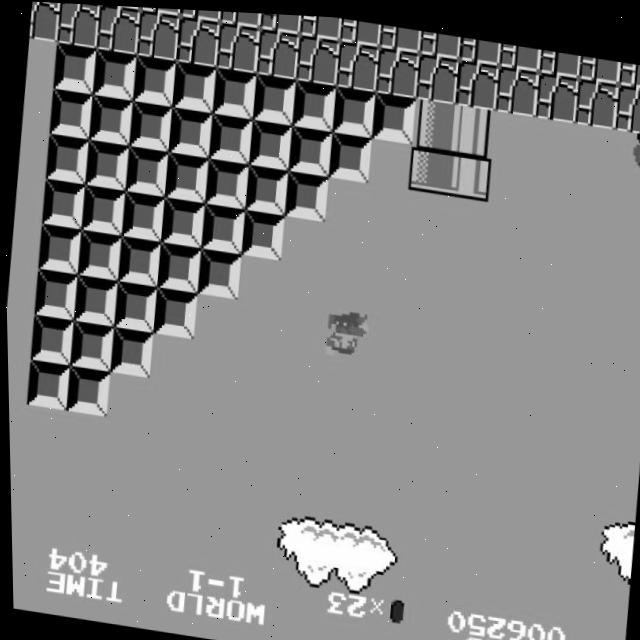11- little_mario: (323, 305, 372, 359)
14- pipe: (449, 99, 496, 151), (409, 94, 456, 145)
15- pipe_head: (405, 138, 452, 190), (445, 145, 492, 196)
17- undestructible_block: (573, 71, 620, 123), (533, 65, 580, 117), (453, 54, 500, 106), (413, 48, 460, 100), (373, 42, 420, 94), (294, 30, 341, 82), (254, 25, 301, 77), (214, 19, 261, 71), (174, 13, 221, 65), (134, 7, 181, 59), (493, 60, 540, 111), (333, 37, 380, 88), (94, 4, 141, 53), (54, 2, 101, 47), (612, 77, 640, 128), (28, 1, 62, 41), (577, 49, 621, 78), (537, 43, 581, 72), (418, 26, 462, 55), (378, 20, 422, 49), (498, 37, 541, 66), (338, 14, 381, 43), (458, 32, 501, 60), (298, 12, 341, 37), (258, 11, 301, 31), (219, 9, 262, 26), (617, 54, 640, 82), (179, 7, 222, 19), (139, 6, 182, 13)
8- goomba: (630, 123, 640, 175)
9- hard_block: (369, 87, 416, 139), (325, 127, 372, 179), (330, 82, 377, 134), (286, 121, 333, 173), (238, 206, 285, 258), (246, 115, 293, 167), (250, 70, 297, 122), (198, 200, 245, 252), (206, 109, 253, 161), (150, 285, 197, 337), (158, 194, 205, 246), (166, 104, 213, 156), (170, 59, 217, 111), (110, 279, 157, 331), (118, 189, 165, 241), (126, 98, 173, 150), (130, 53, 177, 105), (71, 273, 118, 325), (90, 47, 137, 99), (26, 313, 73, 365), (46, 86, 93, 138), (210, 65, 257, 116), (79, 183, 126, 234), (31, 268, 78, 319), (51, 42, 98, 93), (290, 76, 336, 128), (107, 324, 153, 376), (67, 318, 113, 370), (87, 92, 133, 144), (39, 177, 85, 229), (282, 167, 328, 218), (242, 161, 288, 212), (195, 246, 241, 297), (123, 144, 169, 195), (63, 364, 109, 415), (75, 229, 121, 280), (83, 138, 129, 189), (23, 359, 69, 410), (35, 223, 81, 274), (43, 133, 89, 184), (115, 235, 161, 285), (163, 150, 208, 201), (203, 156, 248, 206), (155, 241, 200, 291)
